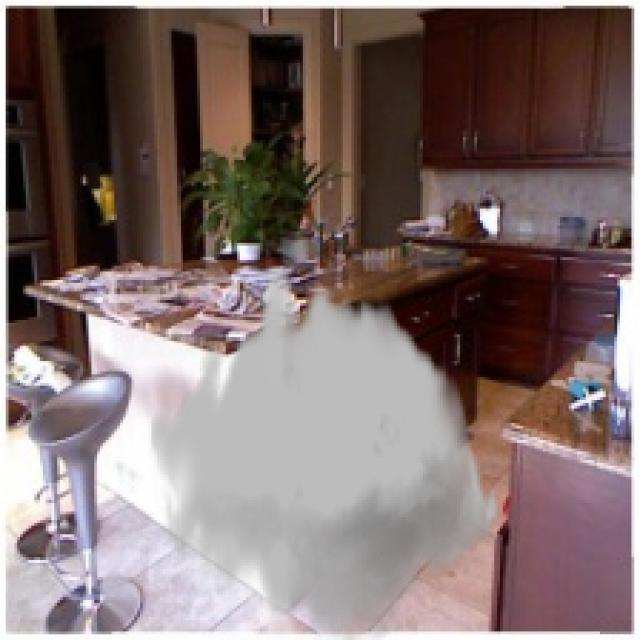Smoke: (148, 272, 503, 637)
